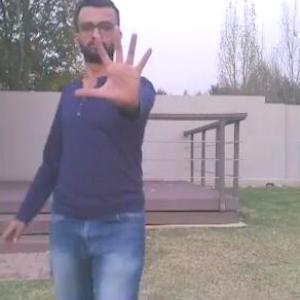follow_hand: (71, 21, 157, 109)
